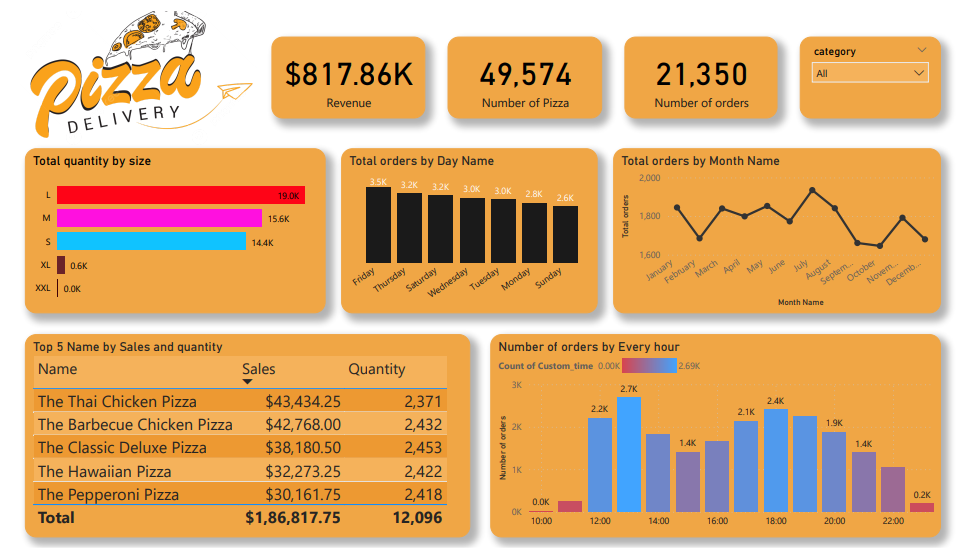

The page's visual inventory and layout, read from the dashboard file:
{"tool":"powerbi","page":{"name":"Page 1","canvas":[1280,720],"ordinal":0},"visuals":[{"type":"card","fields":{"Values":["Sum(order_details.Sales)"]},"box":[348.7,38.3,205,109.1],"z":0},{"type":"card","fields":{"Values":["order_details.Number of orders"]},"box":[820,38.3,204.1,109.1],"z":1000},{"type":"card","fields":{"Values":["Sum(order_details.quantity)"]},"box":[584.1,38.3,205.5,109.1],"z":2000},{"type":"columnChart","fields":{"Y":["order_details.Number of orders"],"Category":["orders.Day Name"]},"box":[442.2,187.1,341.6,219.7],"z":3000},{"type":"columnChart","title":"Number of orders by Every hour","fields":{"Category":["orders.Custom_time"],"Y":["order_details.Number of orders"]},"box":[640.6,435.1,600.9,270.7],"z":4000},{"type":"image","box":[0,0,348.7,187.1],"z":5000},{"type":"barChart","fields":{"Category":["pizzas.size"],"Y":["Sum(order_details.quantity)"]},"box":[19.8,187.1,401.1,219.7],"z":6000},{"type":"tableEx","title":"Top 5 Name by Sales and quantity","fields":{"Values":["pizza_types.name","Sum(order_details.Sales)","Sum(order_details.quantity)"]},"box":[19.8,435.1,593.9,270.7],"z":7000},{"type":"slicer","fields":{"Values":["pizza_types.category"]},"box":[1054.5,38.3,187.1,109.1],"z":8000},{"type":"lineChart","fields":{"Y":["order_details.Number of orders"],"Category":["orders.Month Name"]},"box":[805,187.1,436.5,219.7],"z":9000}]}

Visuals, with their boxes on the page's 1280x720 design canvas (x1, y1, x2, y2). These are canvas units, not pixel positions in the 963x559 screenshot, which may show the page scaled, cropped or inside an application window:
card - Sum(order_details.Sales): l=349, t=38, r=554, b=147
card - order_details.Number of orders: l=820, t=38, r=1024, b=147
card - Sum(order_details.quantity): l=584, t=38, r=790, b=147
columnChart - order_details.Number of orders x orders.Day Name: l=442, t=187, r=784, b=407
"Number of orders by Every hour" columnChart: l=641, t=435, r=1242, b=706
image: l=0, t=0, r=349, b=187
barChart - pizzas.size x Sum(order_details.quantity): l=20, t=187, r=421, b=407
"Top 5 Name by Sales and quantity" tableEx: l=20, t=435, r=614, b=706
slicer - pizza_types.category: l=1054, t=38, r=1242, b=147
lineChart - order_details.Number of orders x orders.Month Name: l=805, t=187, r=1242, b=407
